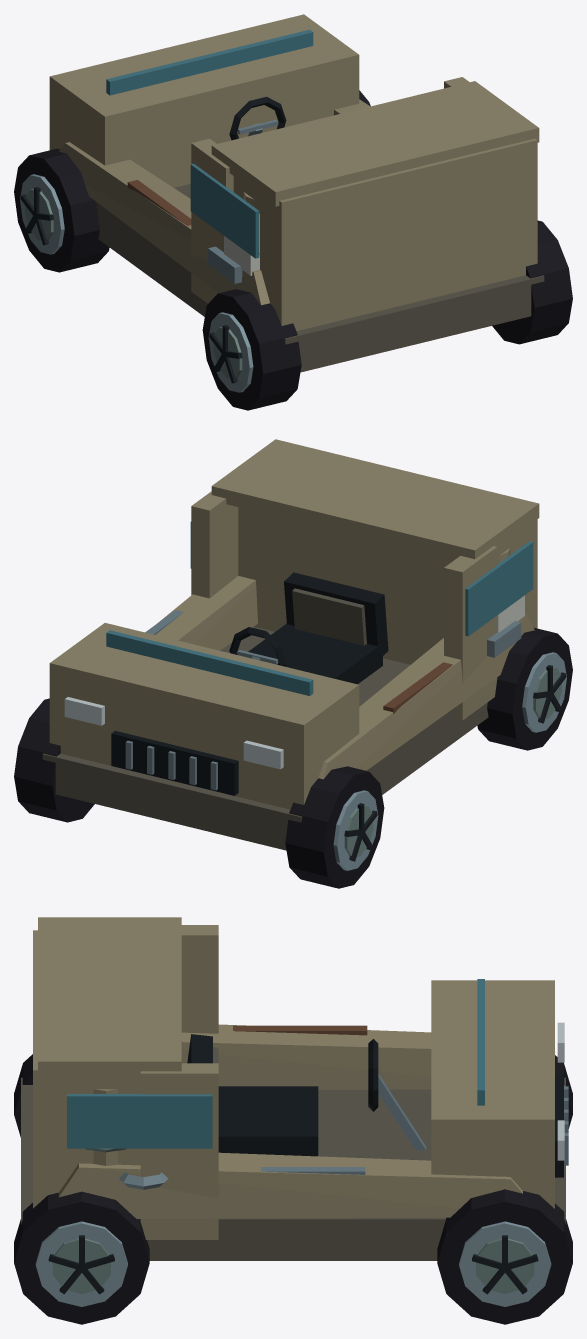
File: kart.glb
3 views of the same model, one above another, from view 1: azimuth 30°, elevation 25°; view 2: azimuth 150°, elevation 25°; view 3: azimuth 270°, elevation 25° (orthographic). The views are drawn at different scales.
Visible parts, largest first — view 1: identity-van-van-utility-body, wheel-rear-left, wheel-front-left, wheel-rear-right, identity-van-motif-tools, identity-van-driver-cockpit, identity-van-motif-medical; view 2: identity-van-van-utility-body, identity-van-driver-cockpit, wheel-front-left, wheel-rear-left, wheel-front-right, identity-van-motif-tools, identity-van-motif-medical; view 3: identity-van-van-utility-body, wheel-front-right, wheel-rear-right, identity-van-driver-cockpit, identity-van-motif-tools, wheel-rear-left, identity-van-motif-tanks.
Part boxes in pixels (x1,y1,x2,y2): identity-van-van-utility-body: [49, 14, 544, 372]; wheel-rear-left: [202, 289, 301, 410]; wheel-front-left: [14, 148, 109, 272]; wheel-rear-right: [492, 220, 572, 344]; identity-van-motif-tools: [127, 180, 242, 283]; identity-van-driver-cockpit: [229, 96, 286, 140]; identity-van-motif-medical: [224, 214, 259, 275]; identity-van-van-utility-body: [42, 439, 539, 850]; identity-van-driver-cockpit: [229, 572, 388, 684]; wheel-front-left: [285, 766, 384, 888]; wheel-rear-left: [477, 627, 572, 750]; wheel-front-right: [14, 698, 94, 822]; identity-van-motif-tools: [145, 610, 521, 713]; identity-van-motif-medical: [496, 595, 524, 632]; identity-van-van-utility-body: [21, 917, 568, 1260]; wheel-front-right: [437, 1189, 572, 1324]; wheel-rear-right: [14, 1191, 149, 1324]; identity-van-driver-cockpit: [187, 1034, 426, 1156]; identity-van-motif-tools: [119, 1025, 367, 1189]; wheel-rear-left: [14, 1054, 32, 1137]; identity-van-motif-tanks: [85, 1089, 126, 1165].
Size of the model in its own units: 2.13 by 1.38 by 2.8.
